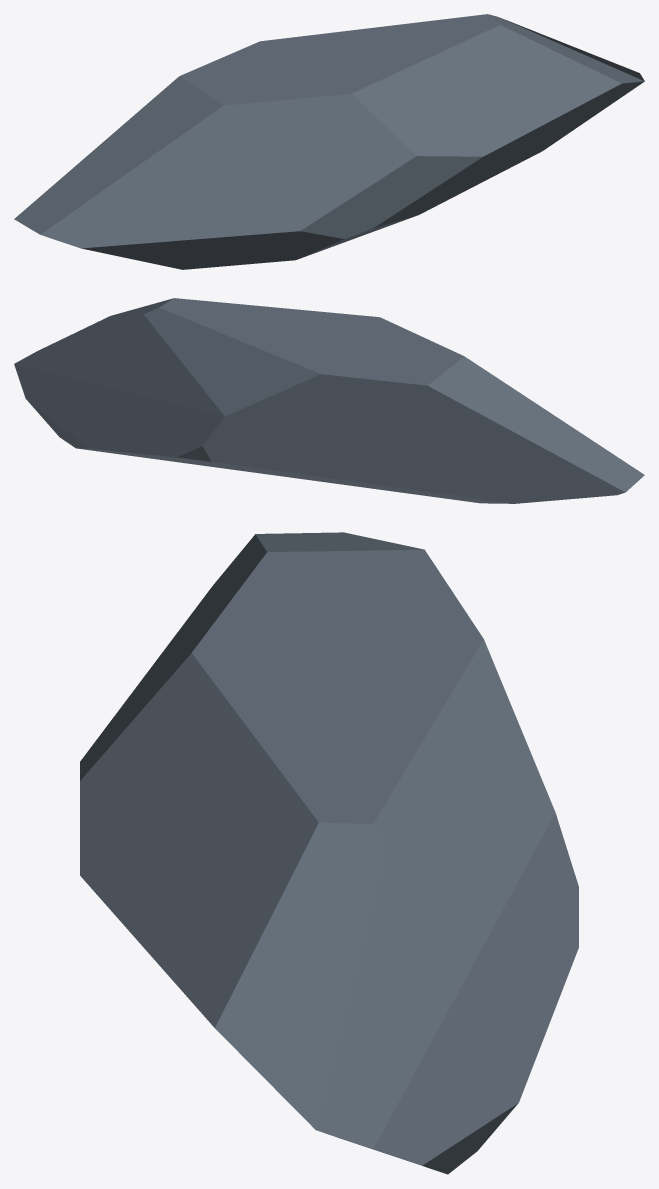
File: Rock_Sharp_m_18.fbx
3 views of the same model, one above another, from view 1: azimuth 30°, elevation 25°; view 2: azimuth 150°, elevation 25°; view 3: azimuth 270°, elevation 25° (orthographic). The views are drawn at different scales.
Visible parts, largest first — view 1: Rock_Sharp_m_18; view 2: Rock_Sharp_m_18; view 3: Rock_Sharp_m_18.
Part boxes in pixels (<box>): Rock_Sharp_m_18: <box>14,14,644,269</box>; Rock_Sharp_m_18: <box>14,298,644,503</box>; Rock_Sharp_m_18: <box>80,532,578,1174</box>.
Bounding box in the file's own units: 157 × 33.6 × 56.
